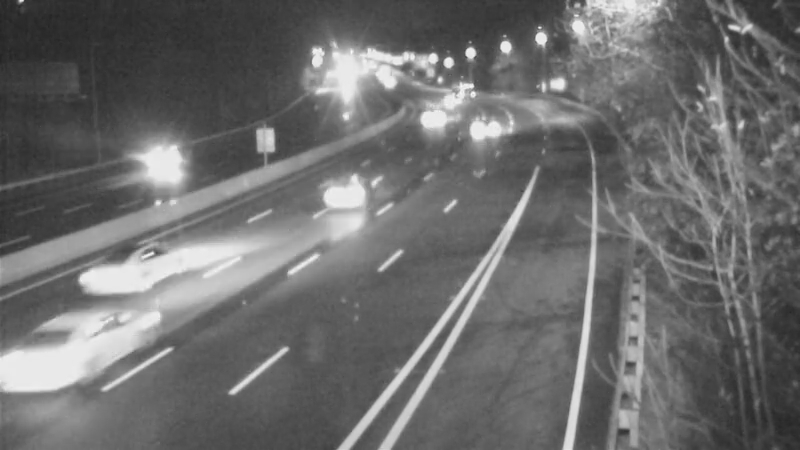vehicle: (1, 299, 111, 409), (316, 151, 396, 231), (76, 227, 156, 307), (133, 121, 213, 201), (440, 65, 490, 115), (433, 80, 483, 130), (407, 88, 457, 138), (461, 102, 511, 152)
